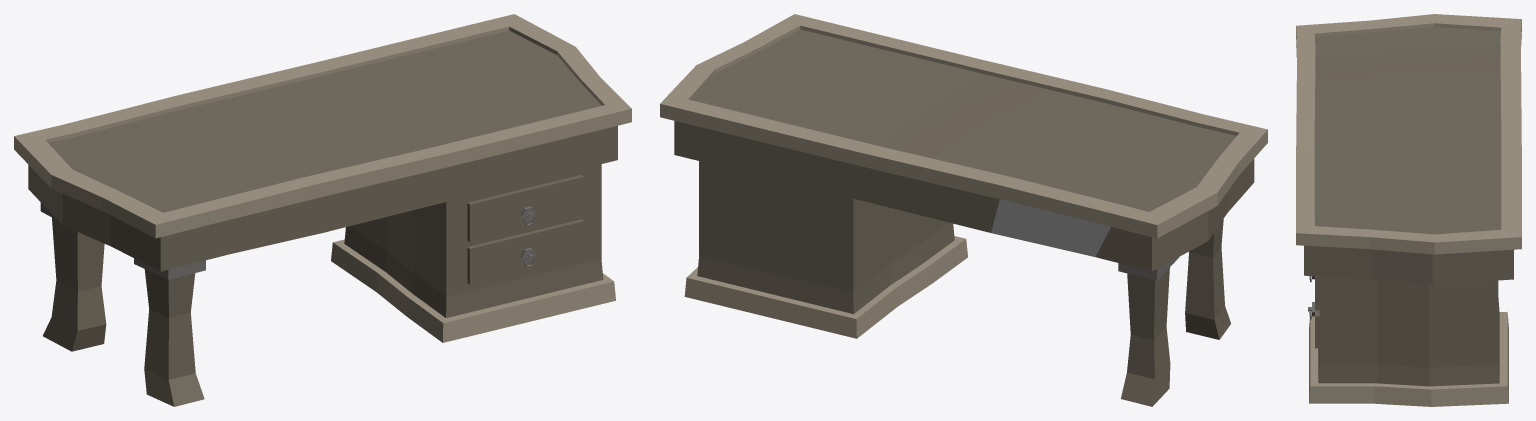
The model's file is desk.fbx.
3 views of the same model, side by side, from view 1: azimuth 30°, elevation 25°; view 2: azimuth 150°, elevation 25°; view 3: azimuth 270°, elevation 25° (orthographic). The views are drawn at different scales.
Visible parts, largest first — view 1: pCylinder6; view 2: pCylinder6; view 3: pCylinder6.
Boxes of the visible parts, x1,y1,x2,y2 form: pCylinder6: [14, 14, 631, 406]; pCylinder6: [660, 14, 1267, 406]; pCylinder6: [1296, 14, 1521, 406].
Size of the model in its own units: 2.83 by 1.01 by 1.18.
